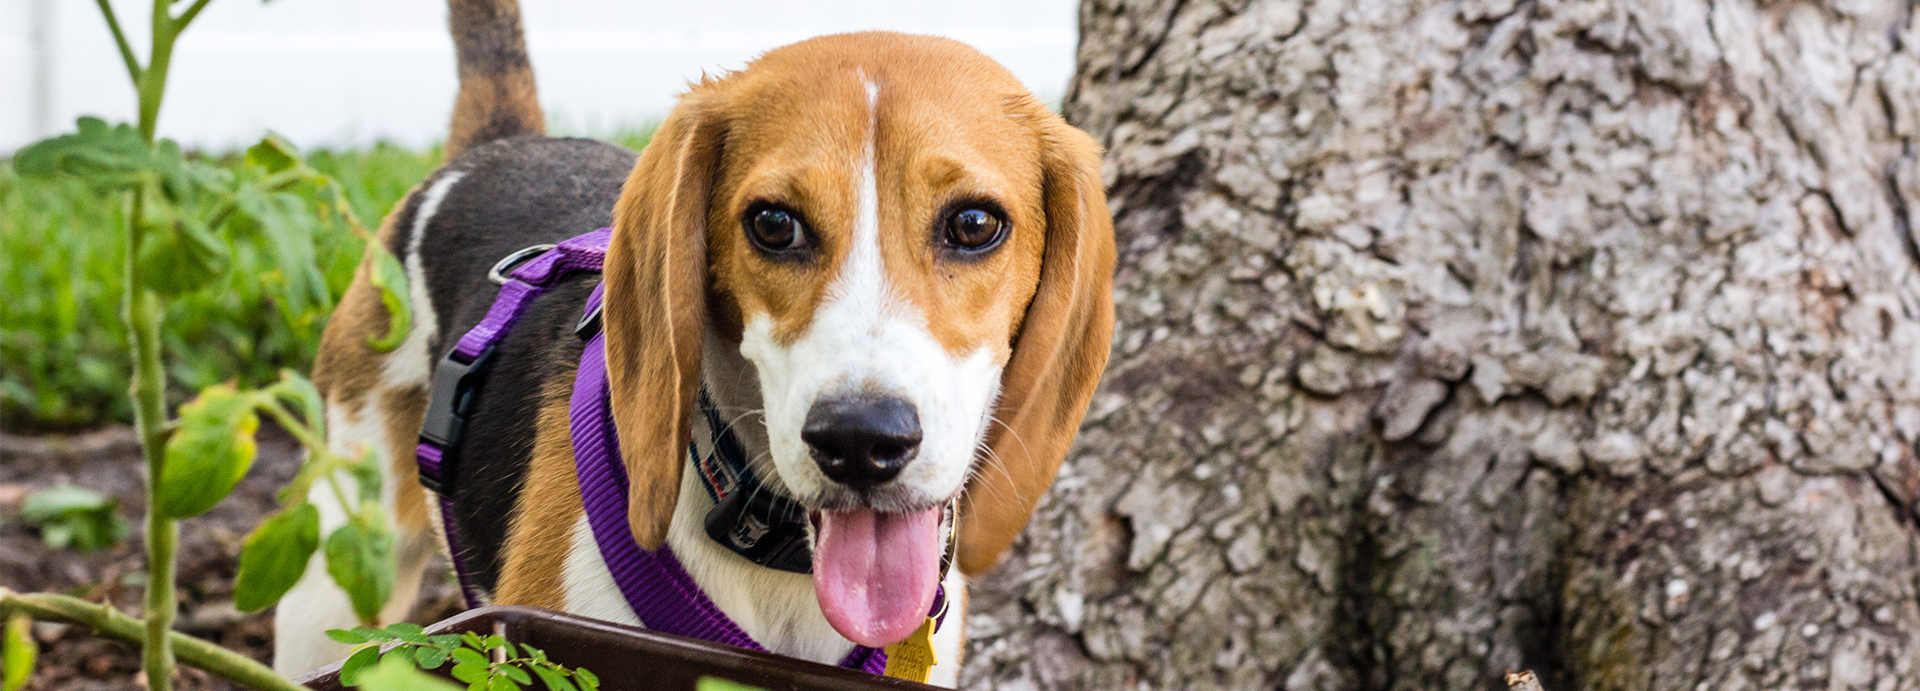dog: (309, 33, 1135, 691)
